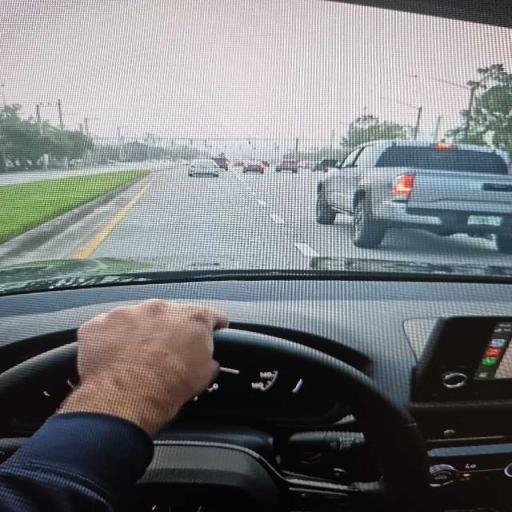car: (0, 0, 511, 511), (188, 160, 219, 177), (312, 159, 339, 172), (276, 160, 299, 173), (243, 161, 265, 174), (212, 157, 228, 170), (299, 161, 314, 171), (233, 160, 244, 166)
lane: (93, 170, 511, 269), (259, 173, 511, 264), (0, 162, 163, 186)
person: (0, 301, 227, 511)
truck: (316, 140, 511, 253)
